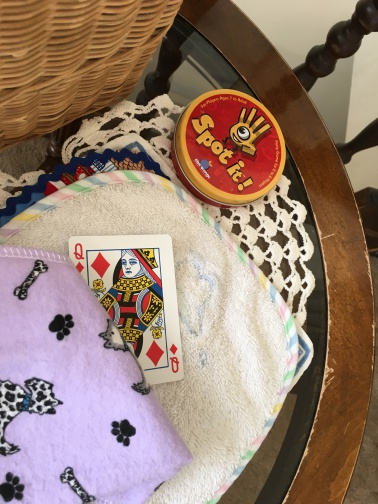queen: (66, 232, 187, 386)
